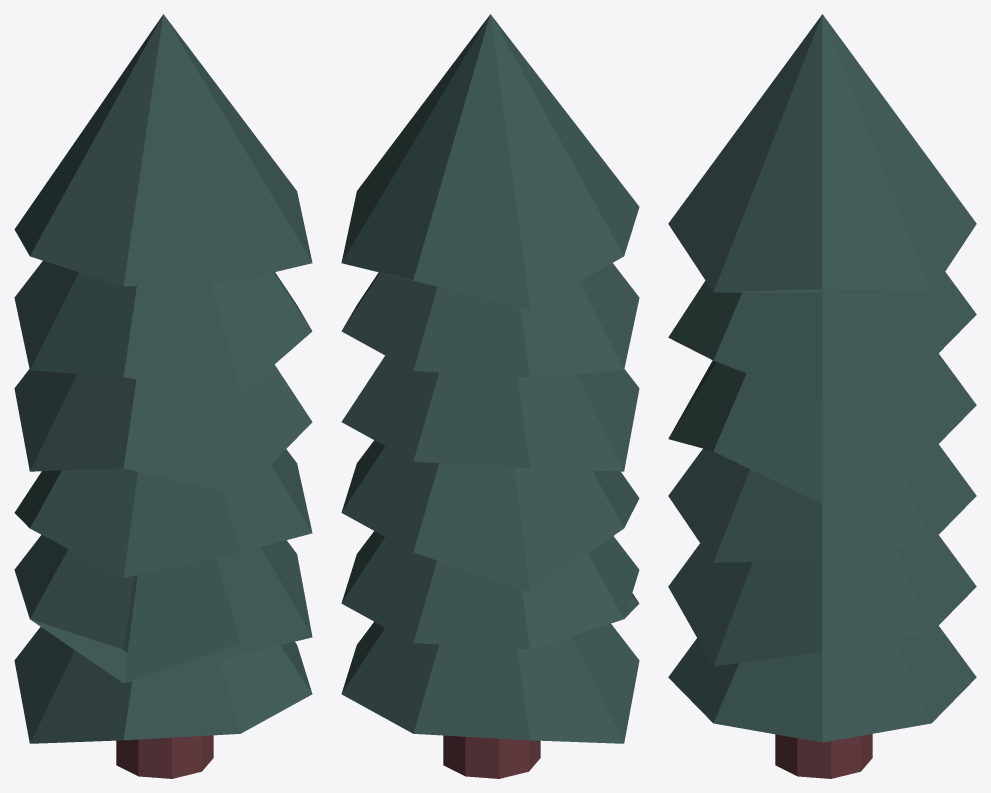
Rendered from pine 1-2.gltf.
3 renders of one model, left to right at view 1: azimuth 30°, elevation 25°; view 2: azimuth 150°, elevation 25°; view 3: azimuth 270°, elevation 25°, orthographic.
Visible parts, largest first — view 1: Cone.060, Cone.064, Cone.061, Cone.062, Cone.063, Cone.065, Cylinder.014; view 2: Cone.060, Cone.063, Cone.065, Cone.062, Cone.061, Cone.064, Cylinder.014; view 3: Cone.060, Cone.064, Cone.062, Cone.061, Cone.063, Cone.065, Cylinder.014.
Part boxes in pixels (<box>): Cone.060: <box>14,14,312,286</box>; Cone.064: <box>14,535,312,683</box>; Cone.061: <box>14,260,312,393</box>; Cone.062: <box>14,364,312,495</box>; Cone.063: <box>14,449,312,577</box>; Cone.065: <box>14,575,312,743</box>; Cylinder.014: <box>116,735,213,778</box>; Cone.060: <box>341,14,639,309</box>; Cone.063: <box>341,440,639,592</box>; Cone.065: <box>341,621,639,743</box>; Cone.062: <box>342,355,639,471</box>; Cone.061: <box>341,263,639,377</box>; Cone.064: <box>341,531,639,649</box>; Cylinder.014: <box>443,735,540,778</box>; Cone.060: <box>668,14,976,292</box>; Cone.064: <box>668,535,976,666</box>; Cone.062: <box>668,353,976,503</box>; Cone.061: <box>668,272,976,402</box>; Cone.063: <box>668,444,976,562</box>; Cone.065: <box>668,625,976,742</box>; Cylinder.014: <box>775,734,872,778</box>.
Bounding box in the file's own units: 6.17 × 16.41 × 6.17.
Materials: 1 (1 with a texture image).
